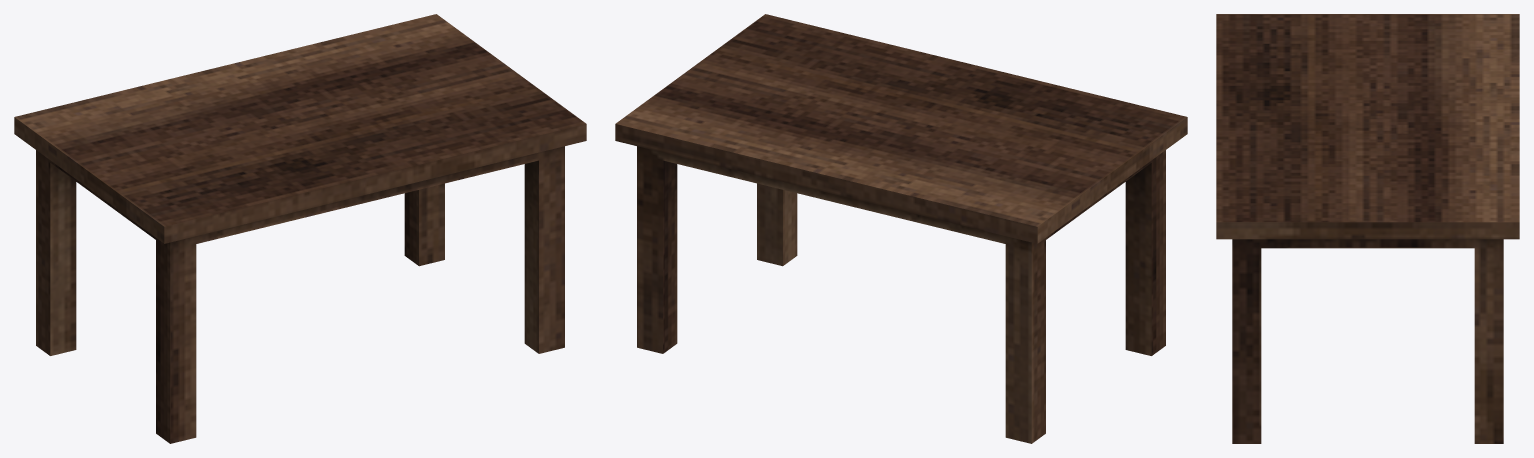
Rendered from table_wooden.fbx.
3 renders of one model, left to right at view 1: azimuth 30°, elevation 25°; view 2: azimuth 150°, elevation 25°; view 3: azimuth 270°, elevation 25°, orthographic.
Visible parts, largest first — view 1: table_wooden; view 2: table_wooden; view 3: table_wooden.
Part boxes in pixels (box(x1,y1,x2,y2)): table_wooden: box(14, 14, 586, 443); table_wooden: box(615, 14, 1187, 443); table_wooden: box(1216, 14, 1519, 443).
Size of the model in its own units: 152 by 78.08 by 93.9.
1 material, 1 textured.
